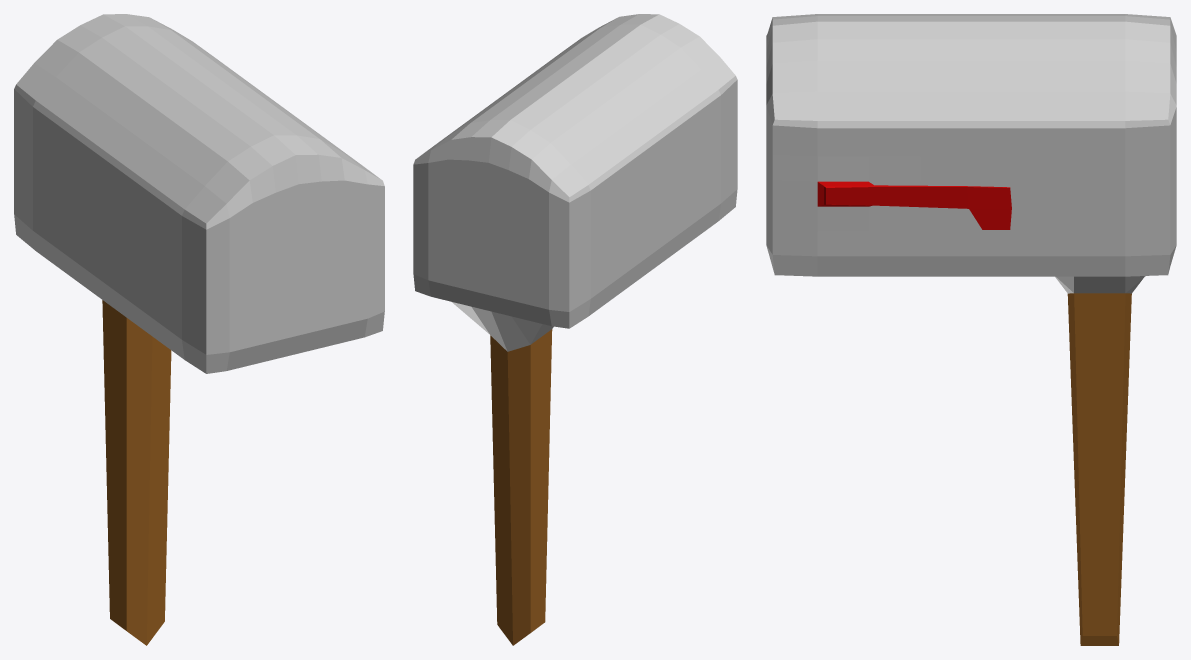
File: Mailbox.fbx
3 renders of one model, left to right at view 1: azimuth 30°, elevation 25°; view 2: azimuth 150°, elevation 25°; view 3: azimuth 270°, elevation 25°, orthographic. The views are drawn at different scales.
Visible parts, largest first — view 1: Cube; view 2: Cube; view 3: Cube.
Boxes of the visible parts, left/top/right/bottom form: Cube: left=14, top=14, right=384, bottom=645; Cube: left=413, top=14, right=737, bottom=645; Cube: left=766, top=14, right=1176, bottom=645.
Bounding box in the file's own units: 37.5 × 115 × 68.34.
